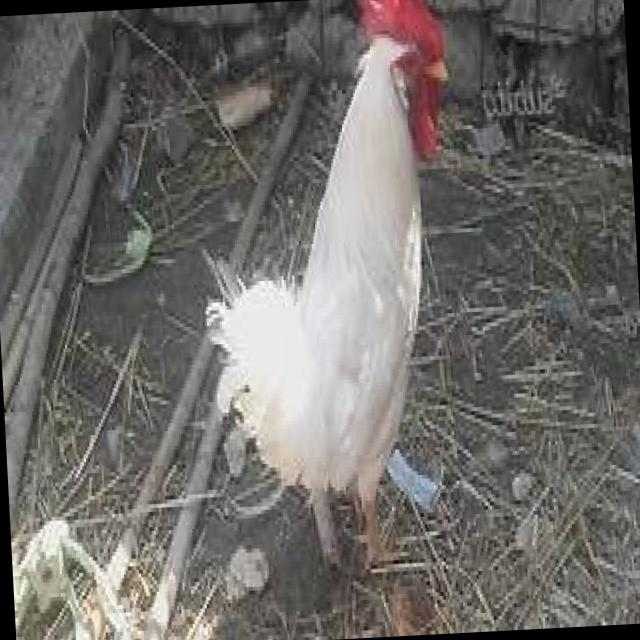chicken: (188, 0, 478, 581)
